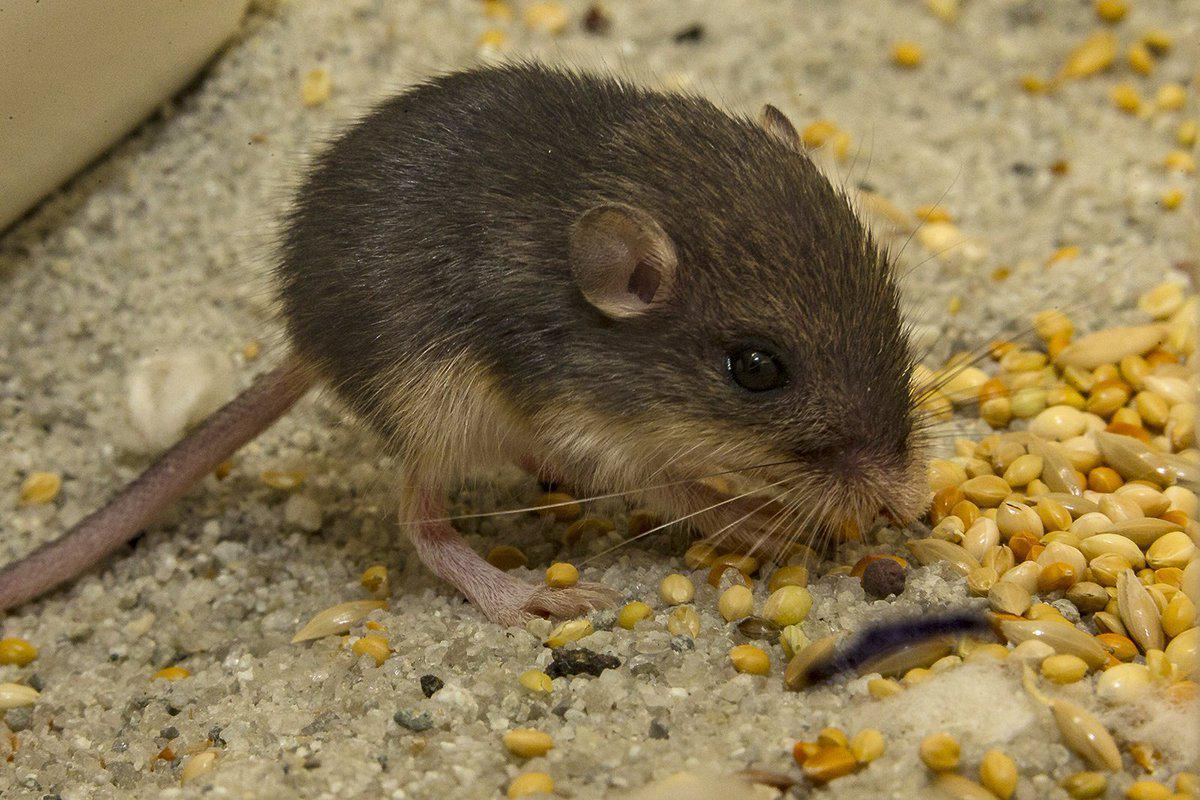rat: (0, 65, 917, 630)
